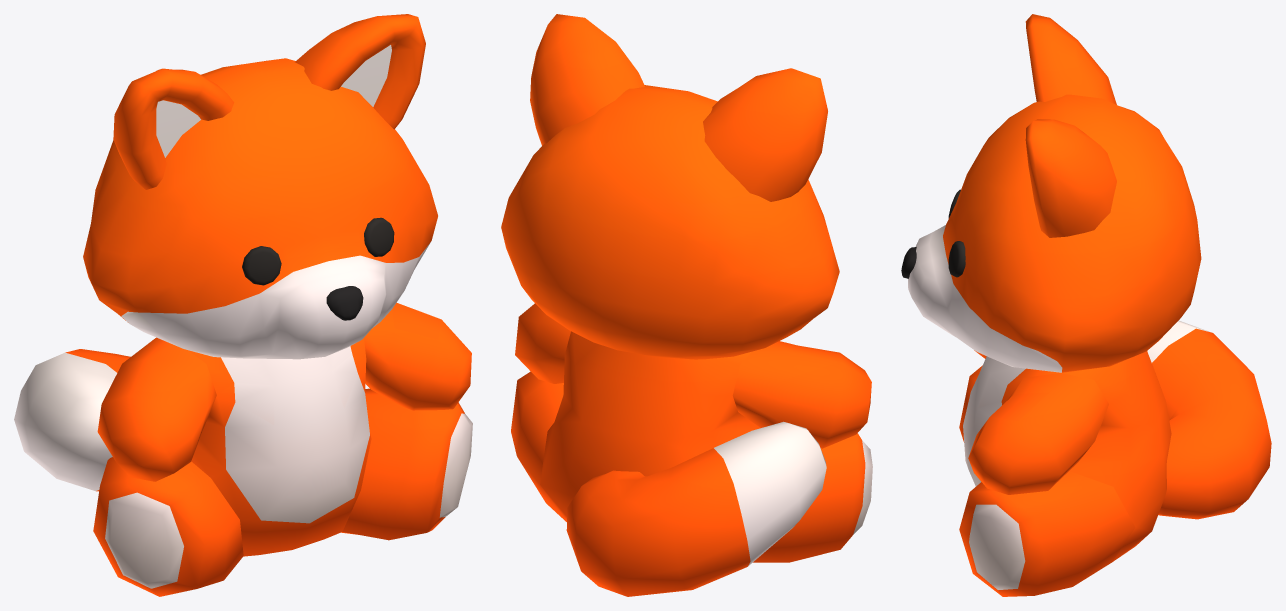
The model's file is fox.glb.
3 renders of one model, left to right at view 1: azimuth 30°, elevation 25°; view 2: azimuth 150°, elevation 25°; view 3: azimuth 270°, elevation 25°, orthographic. The views are drawn at different scales.
Visible parts, largest first — view 1: Fox_01; view 2: Fox_01; view 3: Fox_01.
Part boxes in pixels (x1,y1,x2,y2): Fox_01: (14,14,472,596); Fox_01: (501,14,872,596); Fox_01: (901,14,1271,596).
Bounding box in the file's own units: 0.3328 × 0.4466 × 0.3178.
2 materials, 2 textured.
